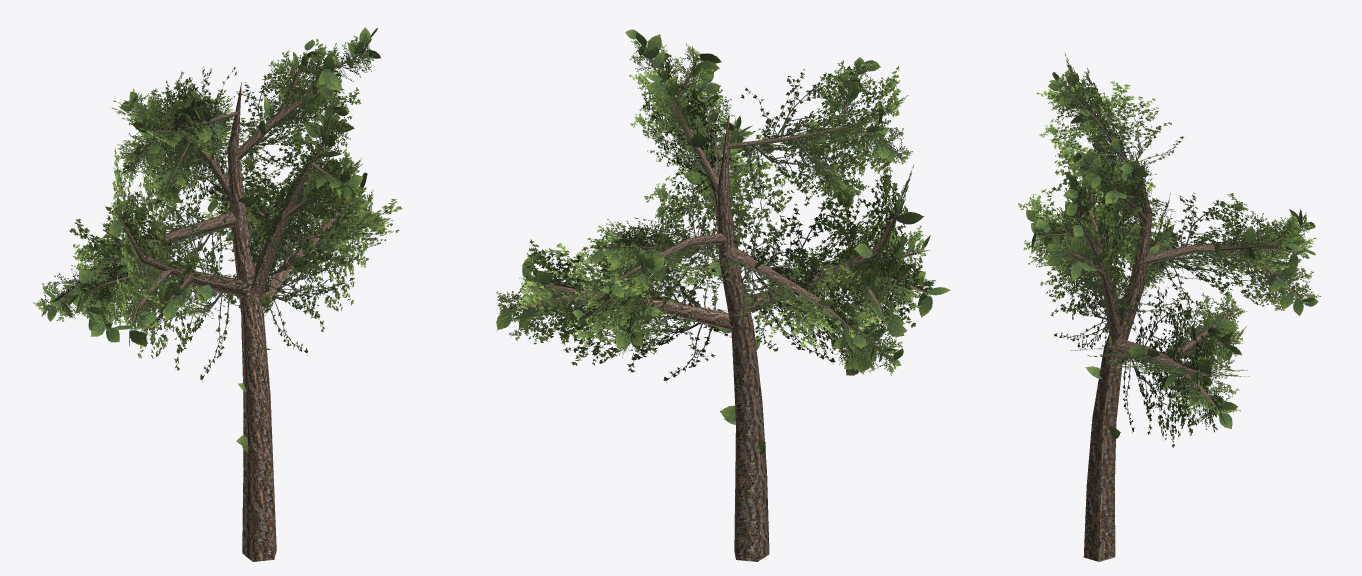
The model's file is UDC_ParkTreeA.obj.
The picture shows the model from 3 angles, left to right: view 1: azimuth 30°, elevation 25°; view 2: azimuth 150°, elevation 25°; view 3: azimuth 270°, elevation 25°; orthographic projection. The views are drawn at different scales.
Visible parts, largest first — view 1: UDC_ParkTreeA; view 2: UDC_ParkTreeA; view 3: UDC_ParkTreeA.
Boxes of the visible parts, x1=… form: UDC_ParkTreeA: x1=33, y1=27, x2=402, y2=561; UDC_ParkTreeA: x1=496, y1=29, x2=950, y2=561; UDC_ParkTreeA: x1=1018, y1=53, x2=1320, y2=561.
Bounding box in the file's own units: 2.19 × 2.85 × 1.89.
3 materials, 3 textured.
